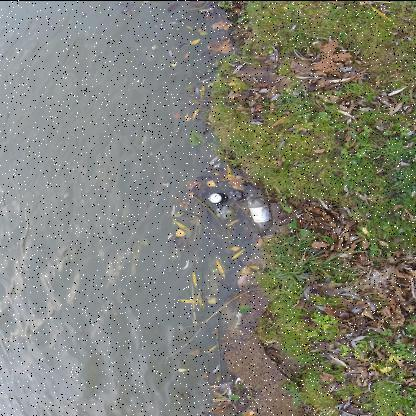metal: (209, 192, 226, 204)
plastic: (248, 196, 272, 230), (216, 204, 235, 219), (228, 188, 245, 200)
